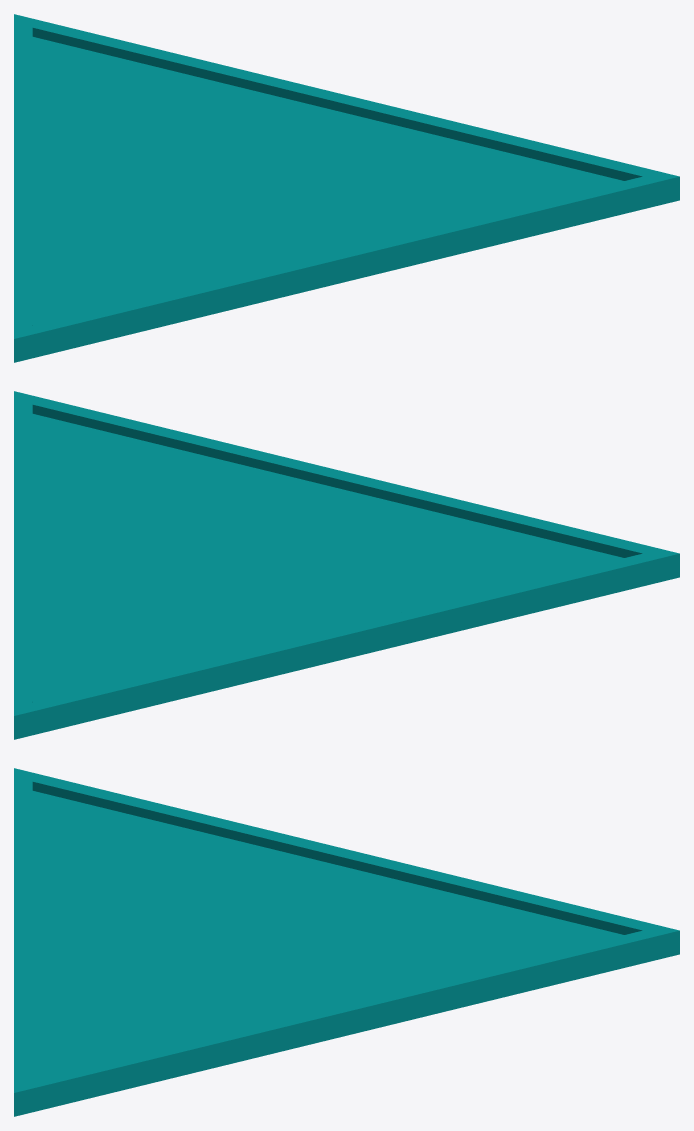
Rendered from SFI0310025.fbx.
The picture shows the model from 3 angles, top to bottom: view 1: azimuth 30°, elevation 25°; view 2: azimuth 150°, elevation 25°; view 3: azimuth 270°, elevation 25°; orthographic projection.
Parts seen in each view (by area): view 1: smSFI0310025; view 2: smSFI0310025; view 3: smSFI0310025.
Part boxes in pixels (box(x1,y1,x2,y2)): smSFI0310025: box(14, 14, 679, 362); smSFI0310025: box(14, 391, 679, 739); smSFI0310025: box(14, 768, 679, 1116).
Bounding box in the file's own units: 173 × 5.93 × 150.
